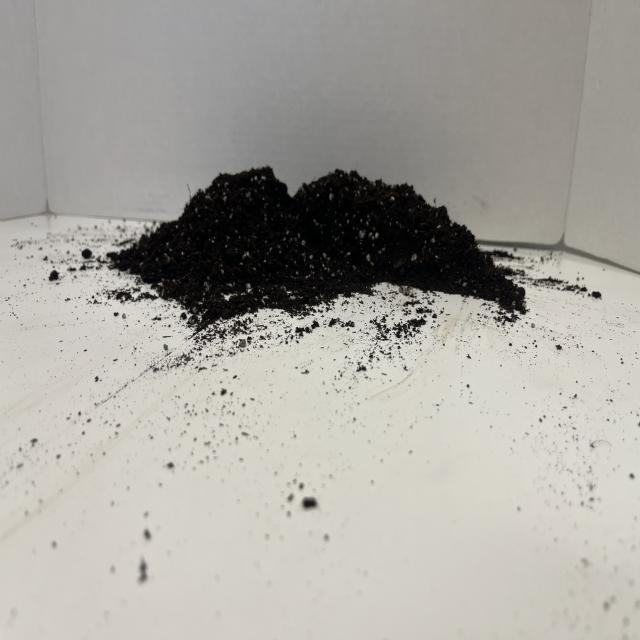soil: (105, 162, 529, 332)
